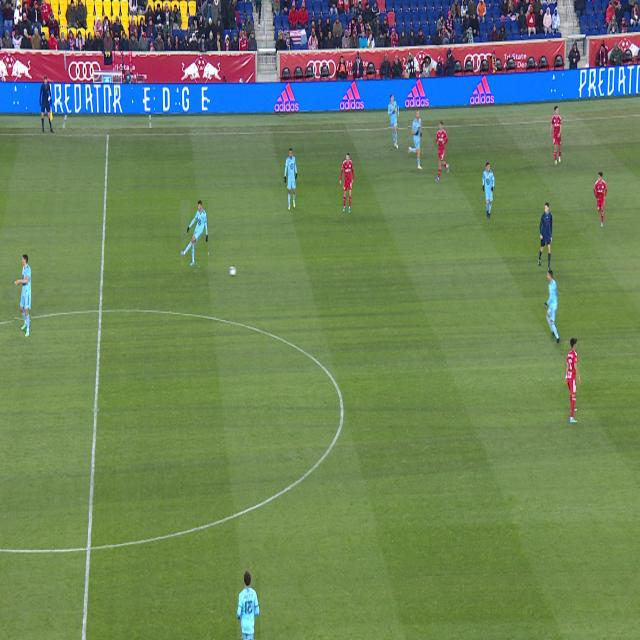football: (228, 265, 237, 277)
player: (182, 201, 208, 266), (237, 572, 260, 639), (14, 254, 31, 337), (565, 338, 580, 423), (545, 270, 560, 343), (339, 153, 354, 213), (435, 122, 449, 183), (284, 148, 297, 210), (593, 172, 607, 227), (409, 111, 422, 170), (550, 106, 562, 165), (483, 162, 494, 217), (389, 95, 398, 149)
referee: (538, 202, 552, 270)
